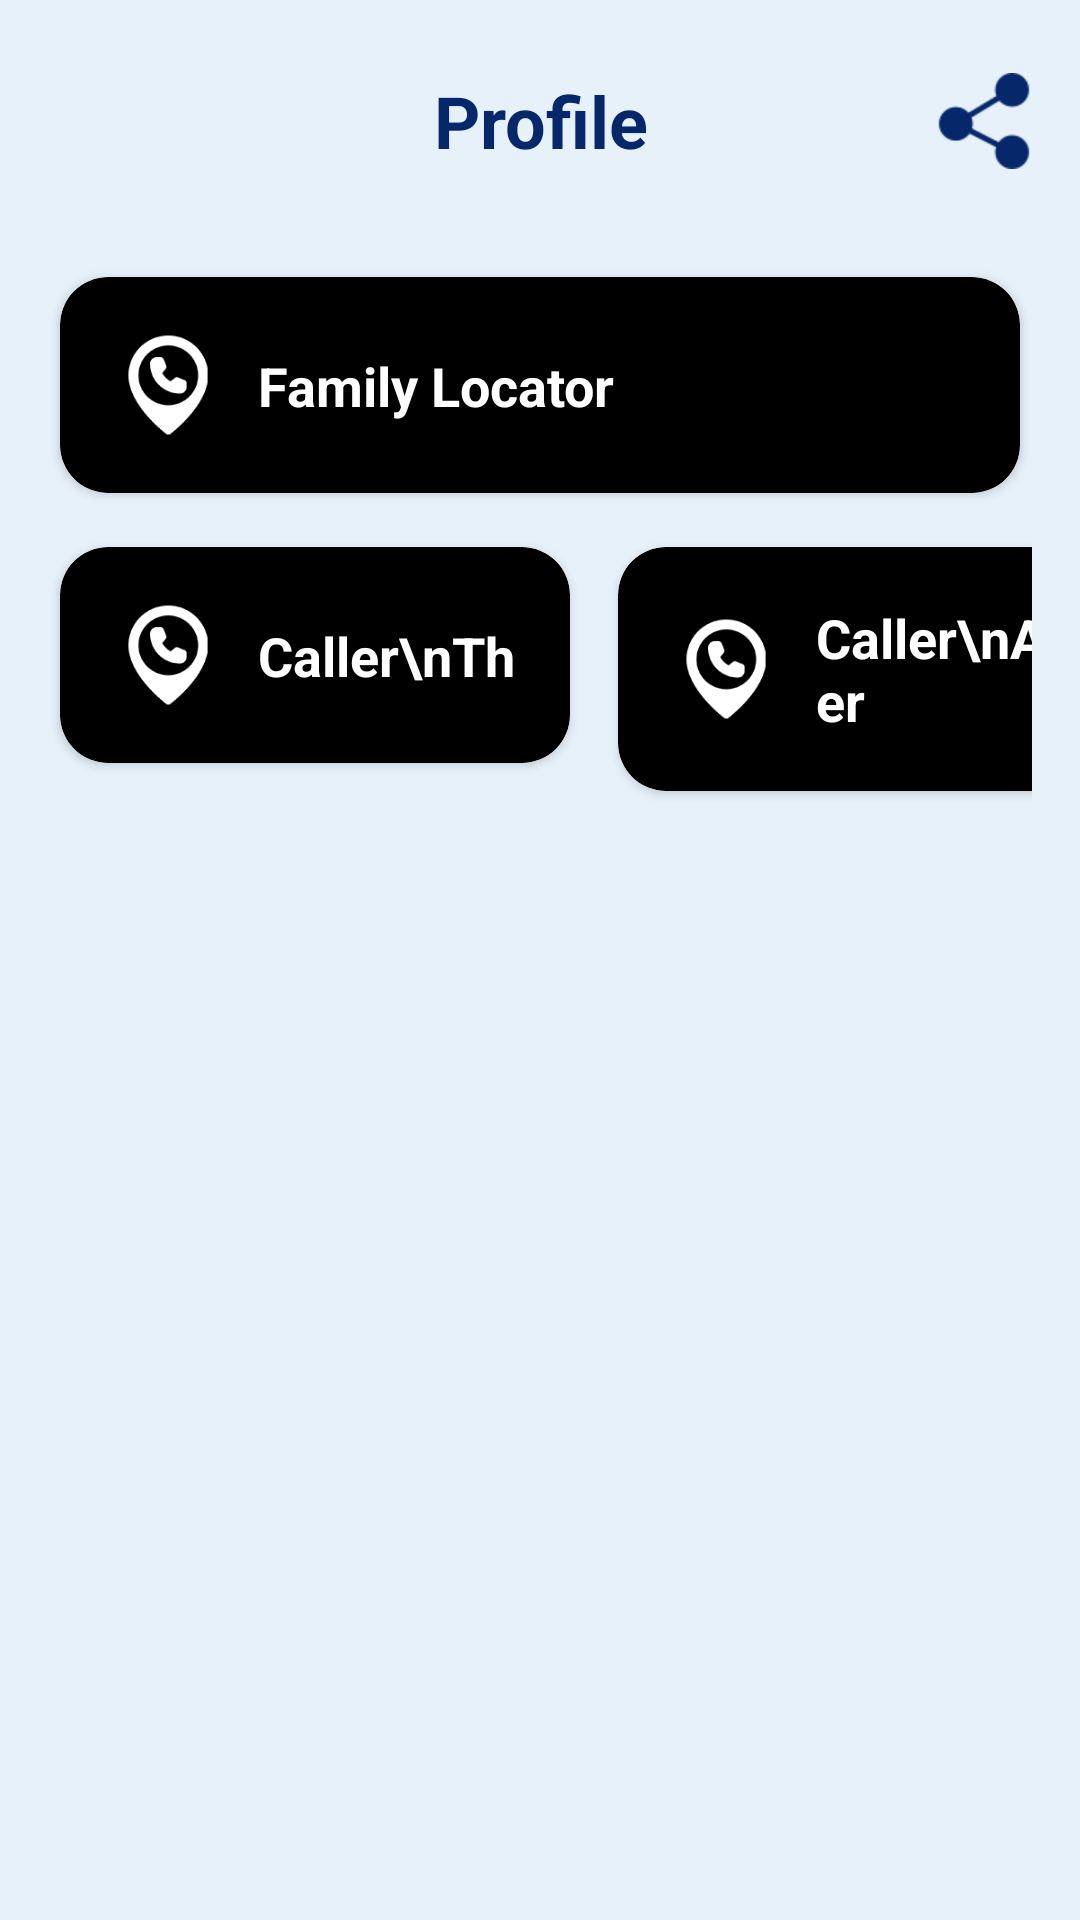

Icons on this 1080*1920 Android screen, each with its box as {"x1": x1, "y1": y1, "x2": x2, "y2": y2}:
caller locator: {"x1": 128, "y1": 335, "x2": 208, "y2": 435}, {"x1": 128, "y1": 605, "x2": 208, "y2": 705}, {"x1": 686, "y1": 619, "x2": 766, "y2": 719}
share: {"x1": 938, "y1": 73, "x2": 1030, "y2": 169}
